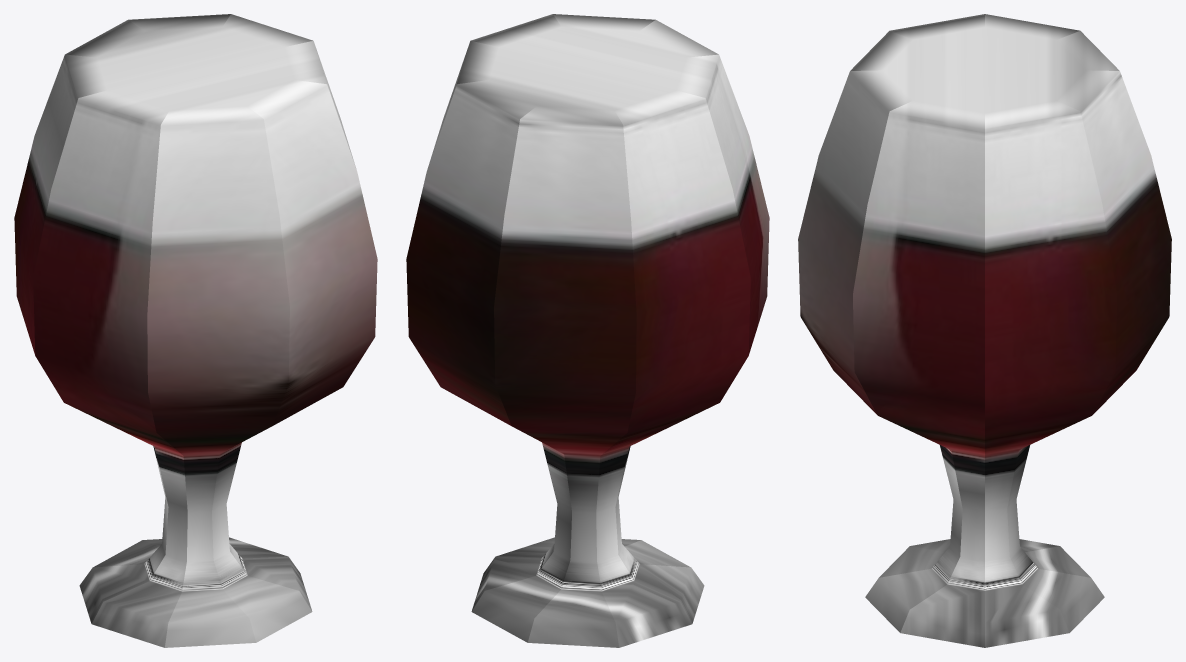
Rendered from beer7m.fbx.
3 renders of one model, left to right at view 1: azimuth 30°, elevation 25°; view 2: azimuth 150°, elevation 25°; view 3: azimuth 270°, elevation 25°, orthographic.
Parts seen in each view (by area): view 1: pCylinder5; view 2: pCylinder5; view 3: pCylinder5.
Part boxes in pixels (x1,y1,x2,y2): pCylinder5: [14, 14, 377, 647]; pCylinder5: [406, 14, 769, 647]; pCylinder5: [798, 14, 1171, 647].
Bounding box in the file's own units: 1.95 × 3.03 × 1.95.
Materials: 1 (1 with a texture image).
